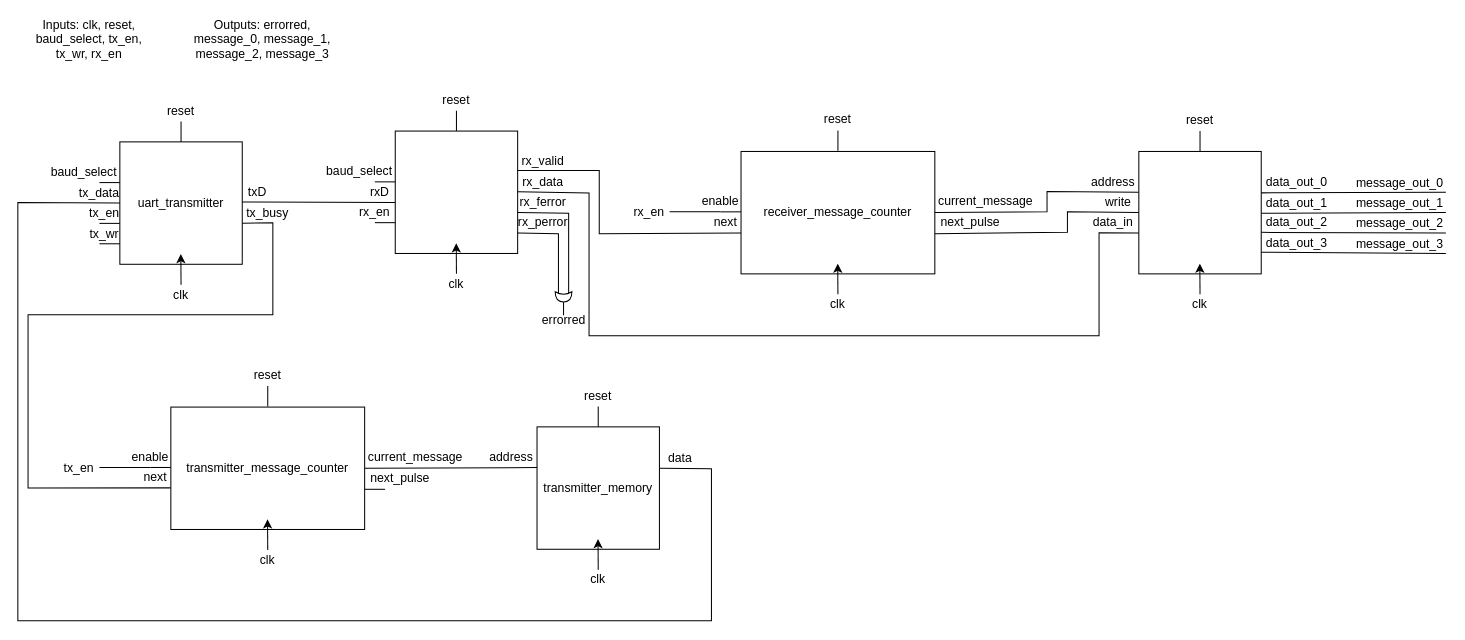
This 1465x640 diagram has some shape labels left out. Each missing label, with the centre of its shape:
"receiver_memory" goes at point (1199, 212).
"uart_receiver" goes at point (456, 191).
